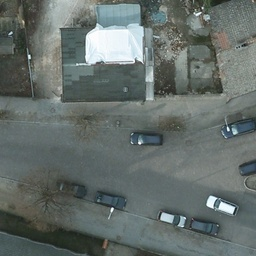car: (190, 214, 219, 239), (220, 118, 256, 137), (207, 194, 238, 216), (95, 190, 126, 211), (155, 210, 187, 228), (129, 130, 163, 146), (59, 180, 87, 196), (238, 160, 256, 175)
